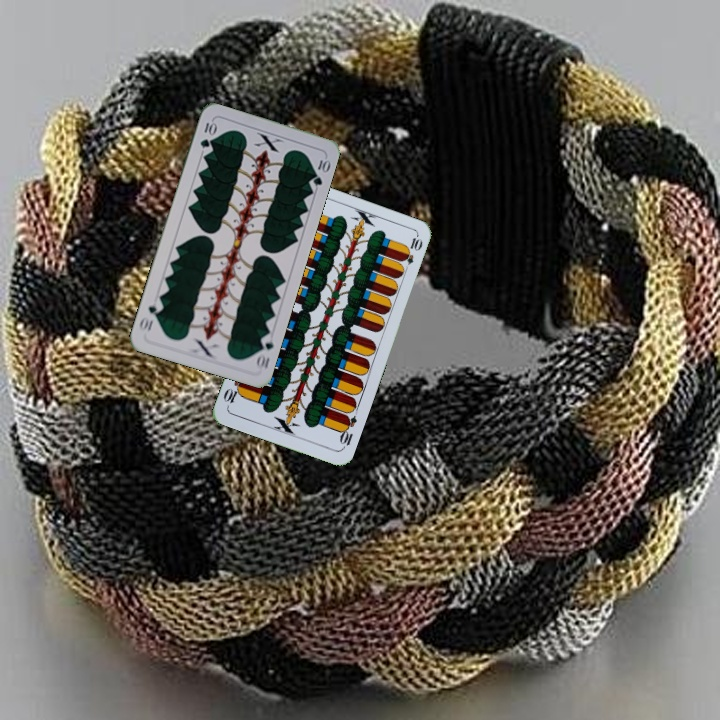E10: (335, 411, 359, 451)
G10: (252, 331, 276, 372), (196, 117, 218, 151)
